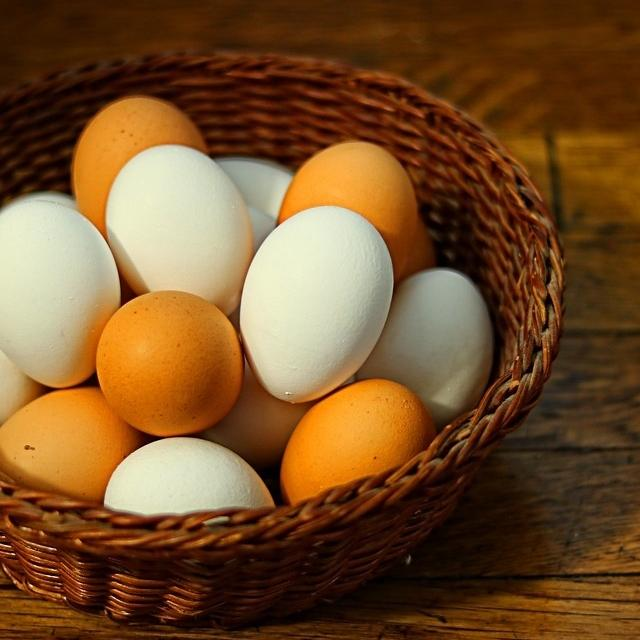egg: (238, 204, 394, 404), (105, 142, 254, 316), (0, 191, 121, 387), (354, 266, 493, 424), (95, 288, 243, 436), (277, 138, 419, 282), (279, 376, 436, 506), (71, 93, 208, 240), (0, 385, 143, 501), (103, 436, 275, 518), (0, 293, 43, 443)
